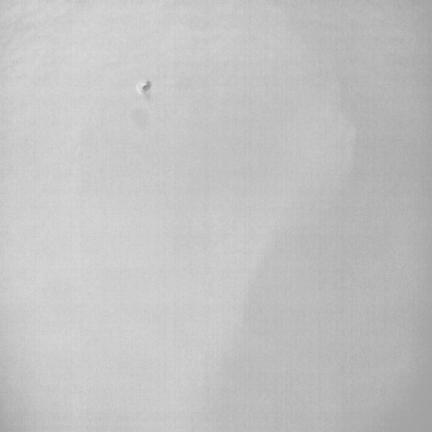flukeprints: (136, 81, 151, 94)
